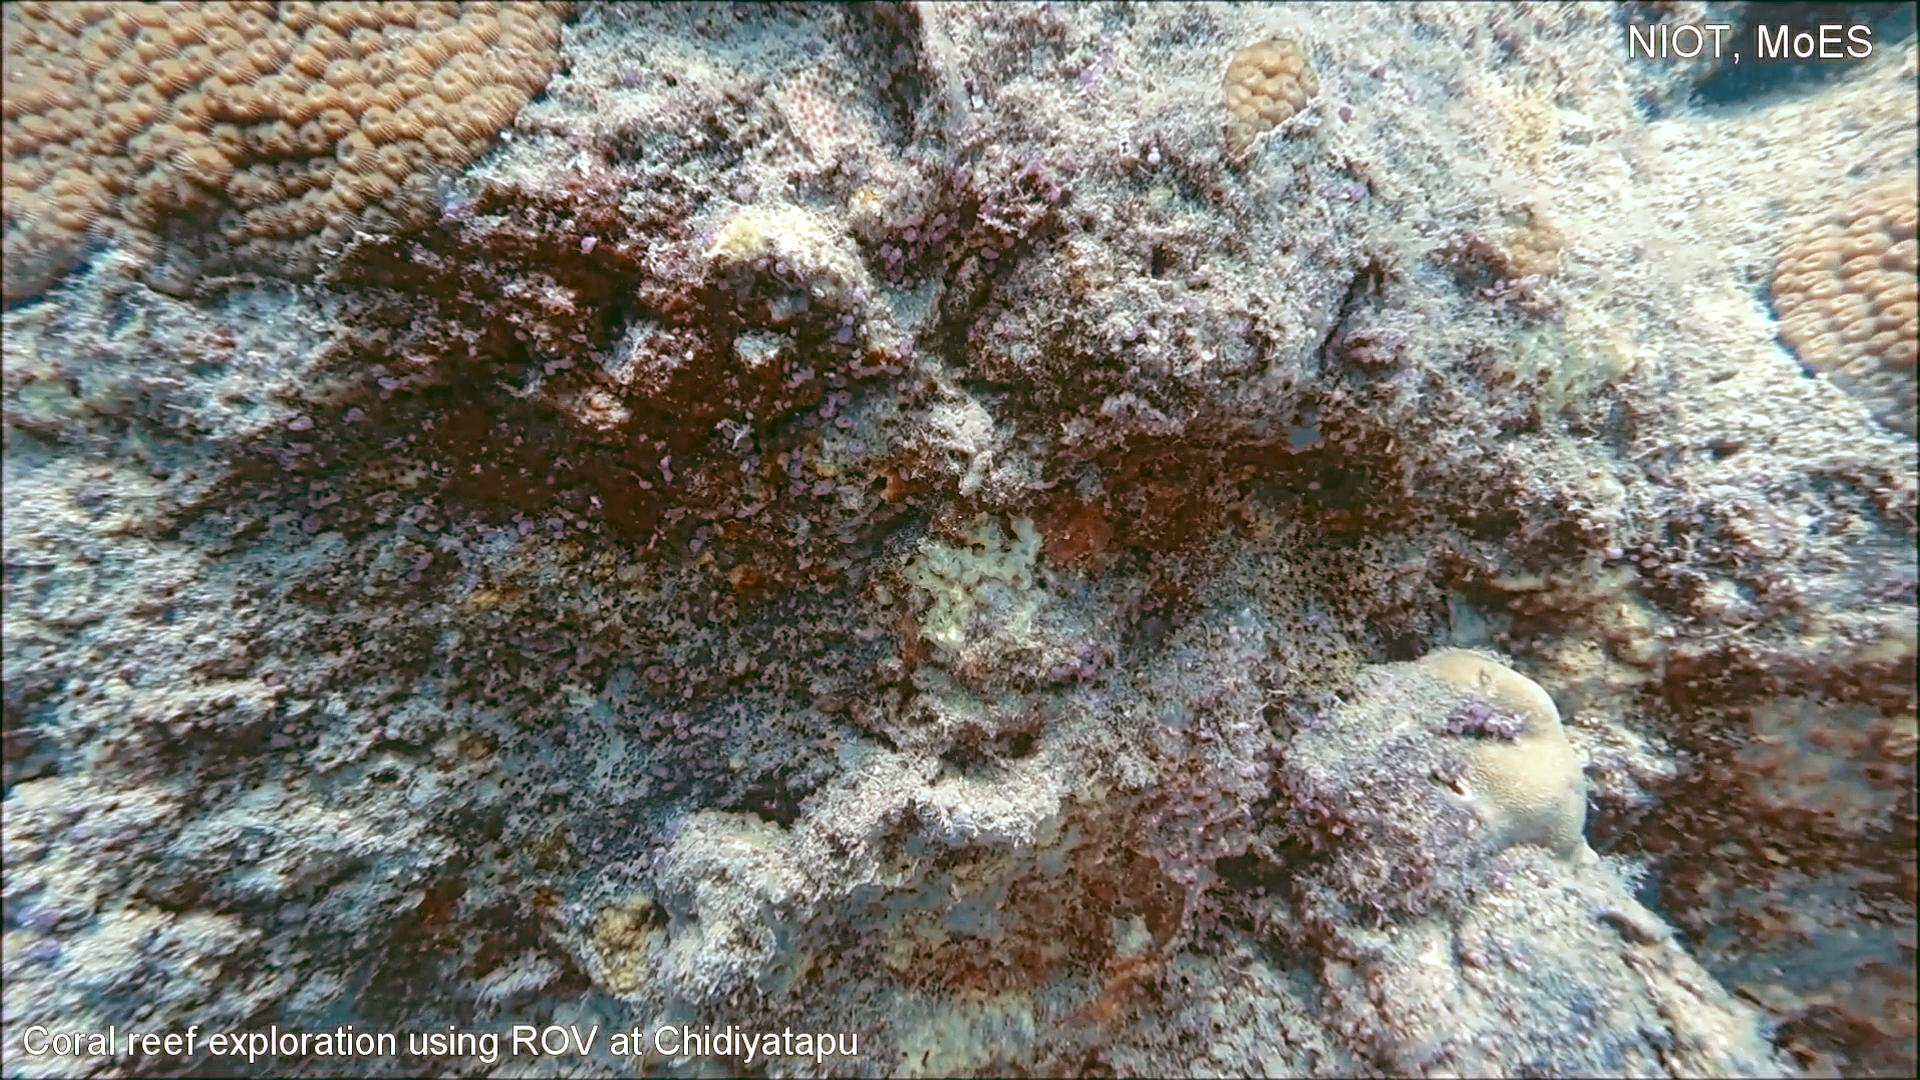Montastraea: (0, 0, 603, 320), (1756, 161, 1920, 450), (1212, 30, 1328, 169)
